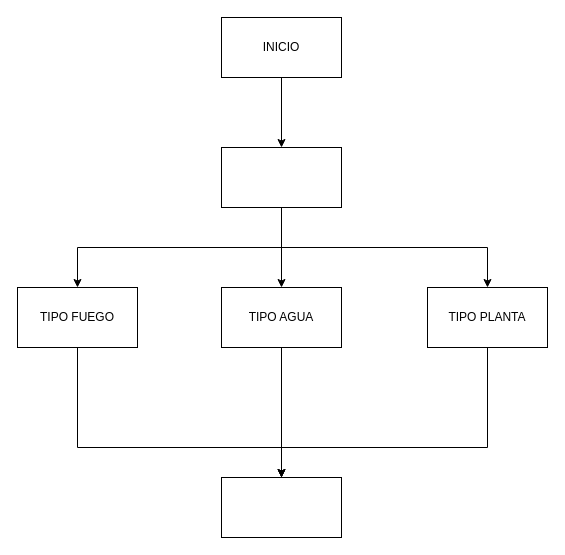
Some shapes in this 565 by 555 pixel diagram are drawn without their labels. The shapes that lost their labels are listed below. From the top down, each one's centre as x and y in pixels, then its label:
At [281,177]: "DESPEGABLE".
At [281,507]: "Listado de pokemons con su url".
